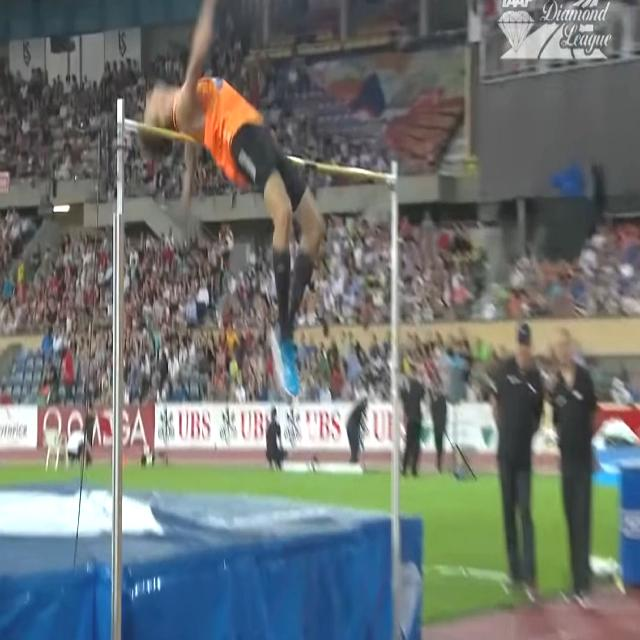jump: (143, 0, 325, 403)
